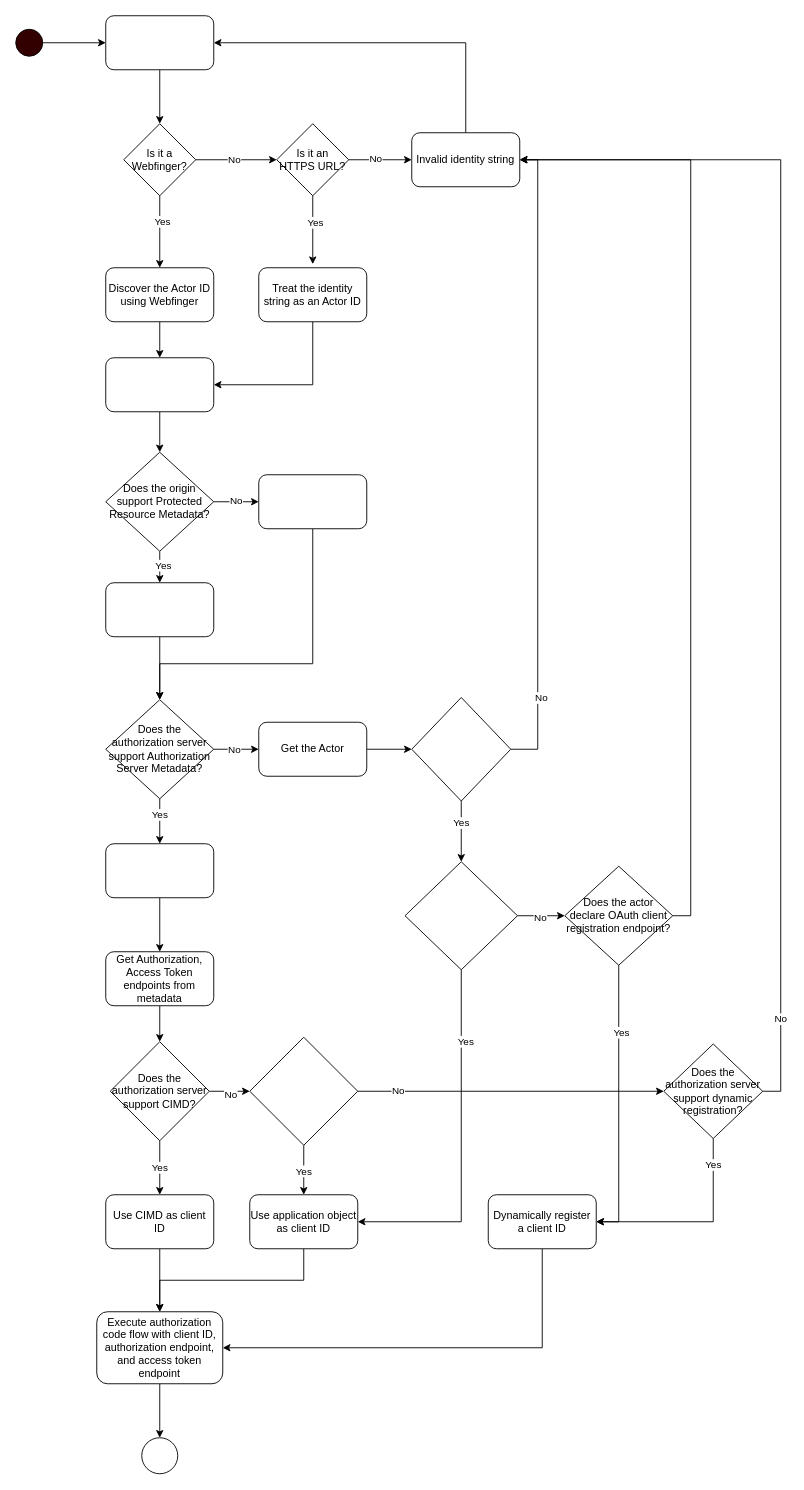
Some shapes in this 804 by 1490 pixel diagram are drawn without their labels. Here are the shapes that lost their labels. From the top down, the centre of each, then its label:
the point at 159,42: User enters identity string
the point at 159,384: Get the origin of the Actor ID
the point at 312,501: Assume the origin is the authorization server
the point at 159,609: Discover the authorization server using Protected Resource Metadata
the point at 461,749: Does the actor declare OAuth endpoints?
the point at 159,870: Get the Authorization Server Metadata
the point at 461,915: Does the Actor support FEP D8C2?
the point at 303,1090: Does the authorization server support FEP D8C2?
